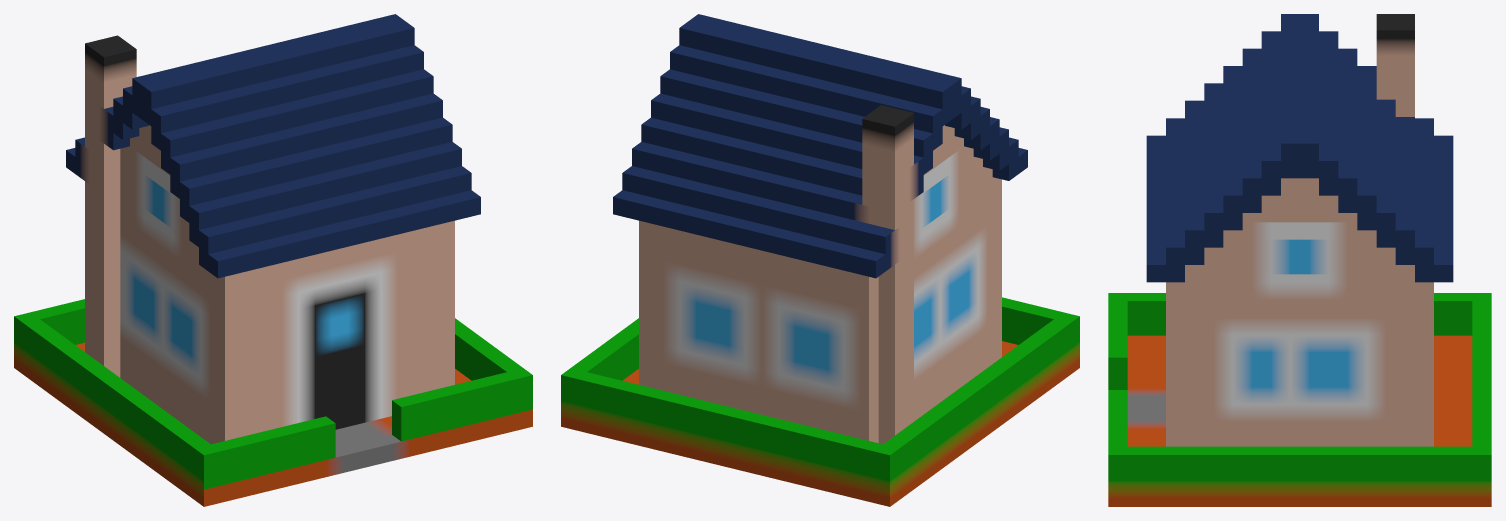
The model's file is Casa4.fbx.
The picture shows the model from 3 angles, left to right: view 1: azimuth 30°, elevation 25°; view 2: azimuth 150°, elevation 25°; view 3: azimuth 270°, elevation 25°; orthographic projection.
Parts seen in each view (by area): view 1: Casa1; view 2: Casa1; view 3: Casa1.
Boxes of the visible parts, <box> form: Casa1: <box>14,14,532,506</box>; Casa1: <box>561,14,1079,506</box>; Casa1: <box>1108,14,1491,506</box>.
Bounding box in the file's own units: 20 × 20 × 20.
